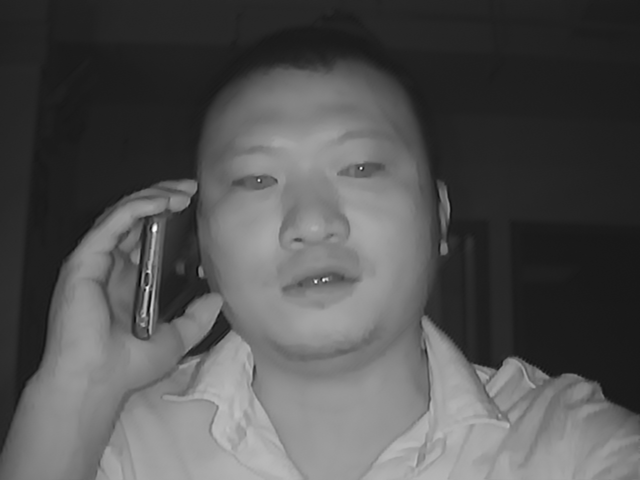hand: (56, 168, 197, 378)
